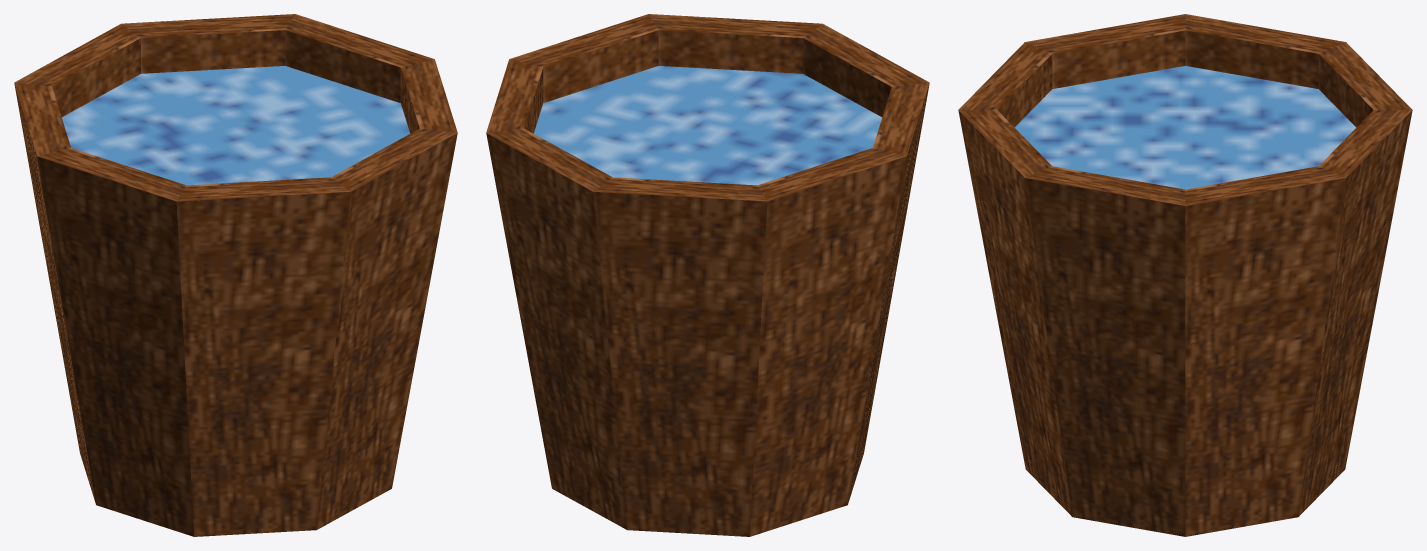
Rendered from SM_Dungeon_Bucket_Wooden_Water.fbx.
3 renders of one model, left to right at view 1: azimuth 30°, elevation 25°; view 2: azimuth 150°, elevation 25°; view 3: azimuth 270°, elevation 25°, orthographic.
Visible parts, largest first — view 1: WoodenBucket; view 2: WoodenBucket; view 3: WoodenBucket.
Boxes of the visible parts, box(x1,y1,x2,y2) form: WoodenBucket: box(14, 14, 457, 536); WoodenBucket: box(486, 14, 929, 536); WoodenBucket: box(958, 14, 1412, 536).
Size of the model in its own units: 37.18 by 32.46 by 37.18.
